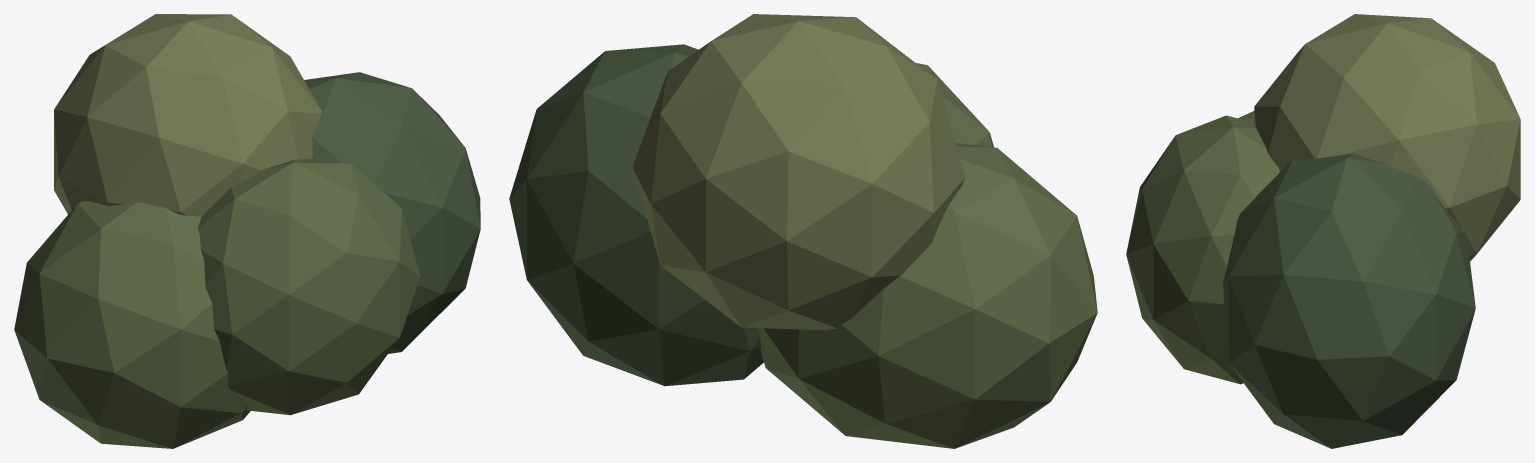
3 renders of one model, left to right at view 1: azimuth 30°, elevation 25°; view 2: azimuth 150°, elevation 25°; view 3: azimuth 270°, elevation 25°, orthographic. The views are drawn at different scales.
Parts seen in each view (by area): view 1: model.glb; view 2: model.glb; view 3: model.glb.
Part boxes in pixels (x1,y1,x2,y2): model.glb: (14, 14, 480, 448); model.glb: (509, 14, 1097, 448); model.glb: (1126, 14, 1520, 448).
Size of the model in its own units: 3.4 by 2.65 by 2.56.
Materials: 1 (1 with a texture image).
